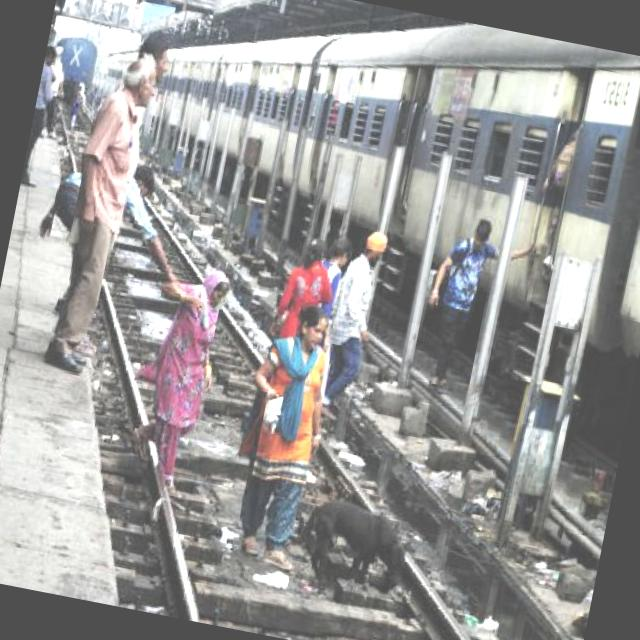Person: (218, 298, 346, 576), (137, 256, 235, 476), (412, 206, 504, 398), (316, 225, 392, 406)
